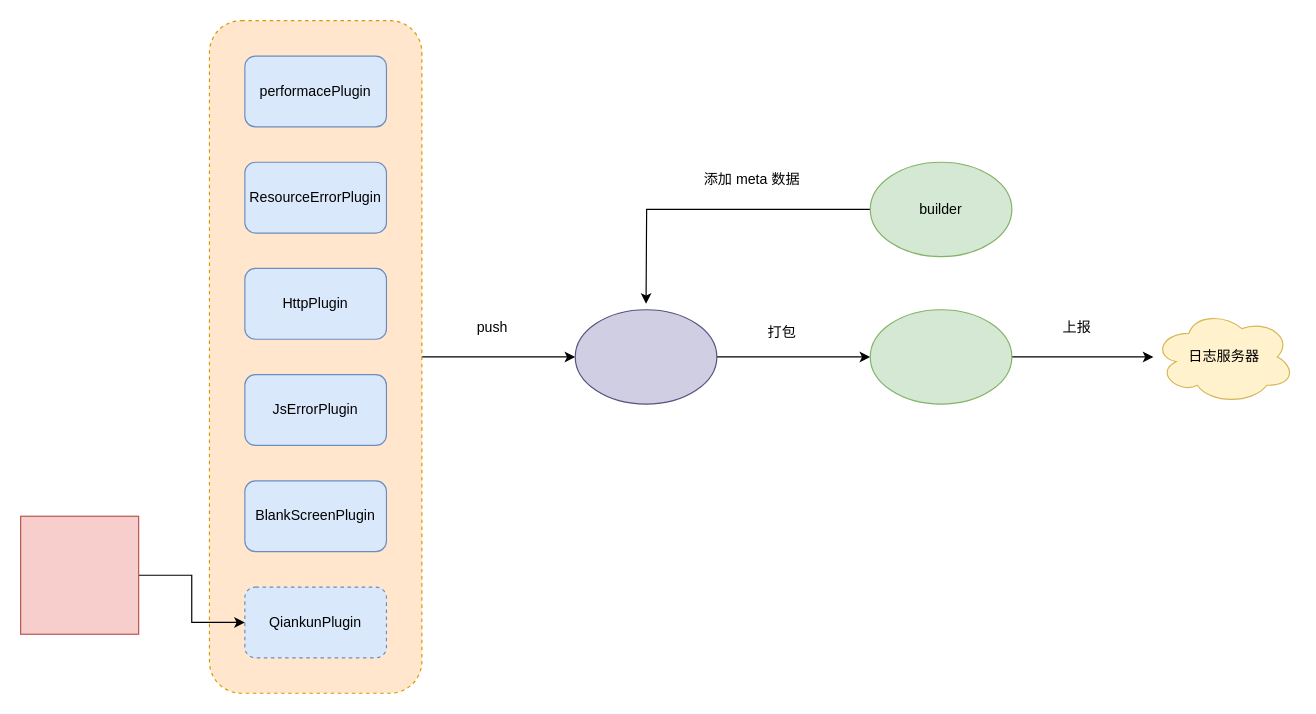
Some shapes in this 1316 by 714 pixel diagram are drawn without their labels. Each missing label, with the centre of its shape:
"Client" belongs at point (645, 356).
"sender" belongs at point (940, 356).
"采集子应用 JsError，HttpError，ResourceError； 组装子应用名称和版本；" belongs at point (79, 574).
